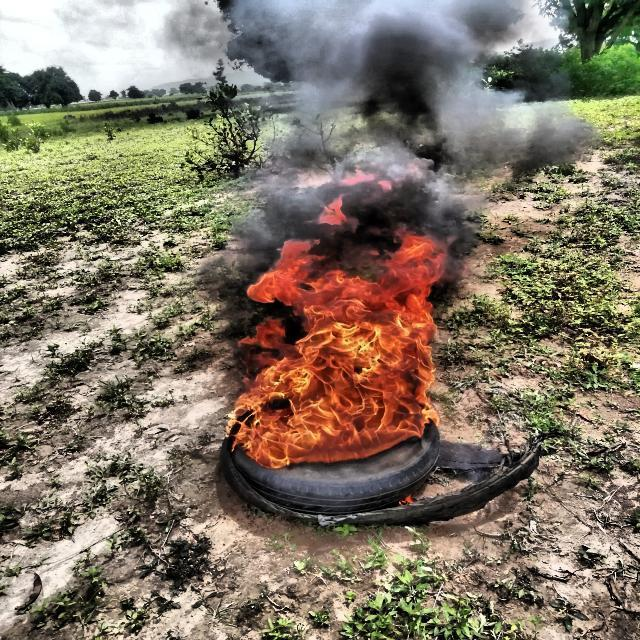Fire: (232, 215, 447, 470)
Smoke: (214, 0, 584, 213)
